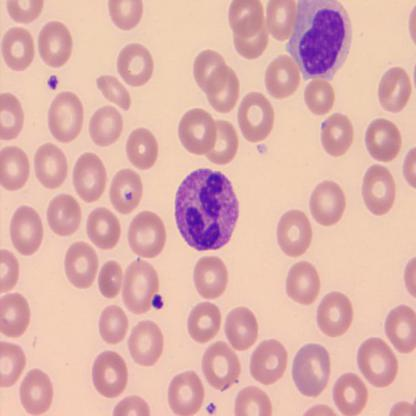Segmented neutrophil: (171, 166, 241, 254)
